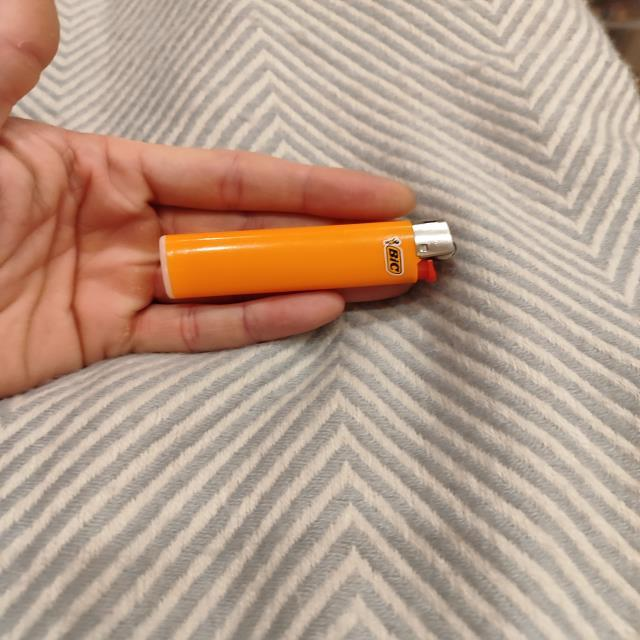lighter: (160, 220, 454, 300)
